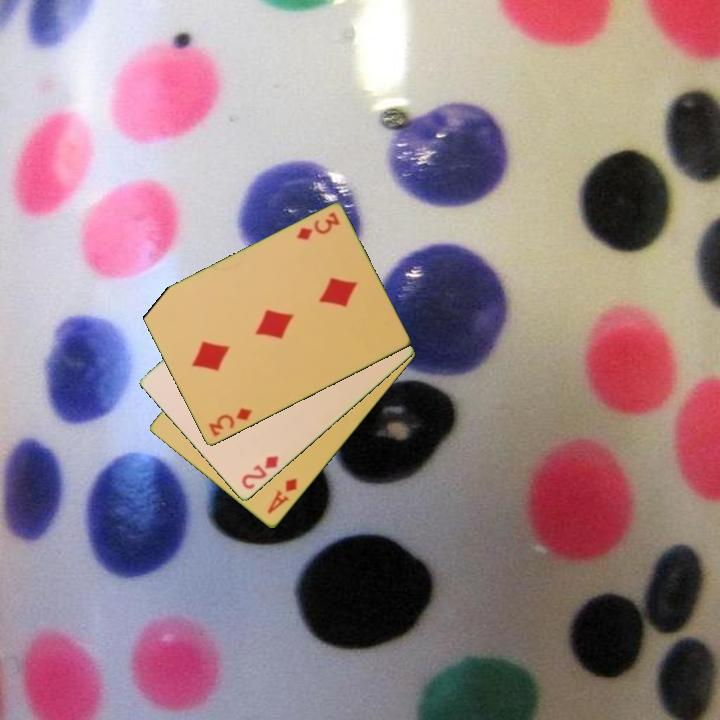2d: (238, 452, 281, 493)
3d: (293, 209, 343, 244), (205, 405, 255, 439)
Ad: (264, 475, 300, 517)
